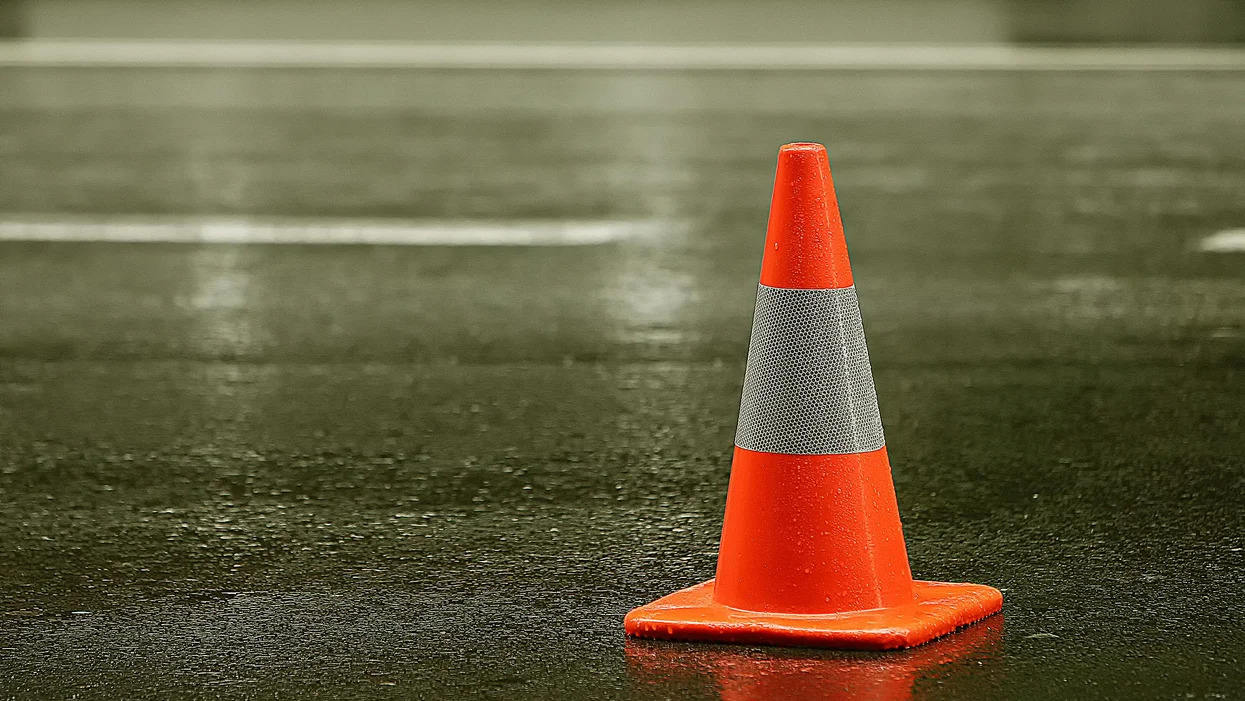cones: (625, 135, 1000, 652)
